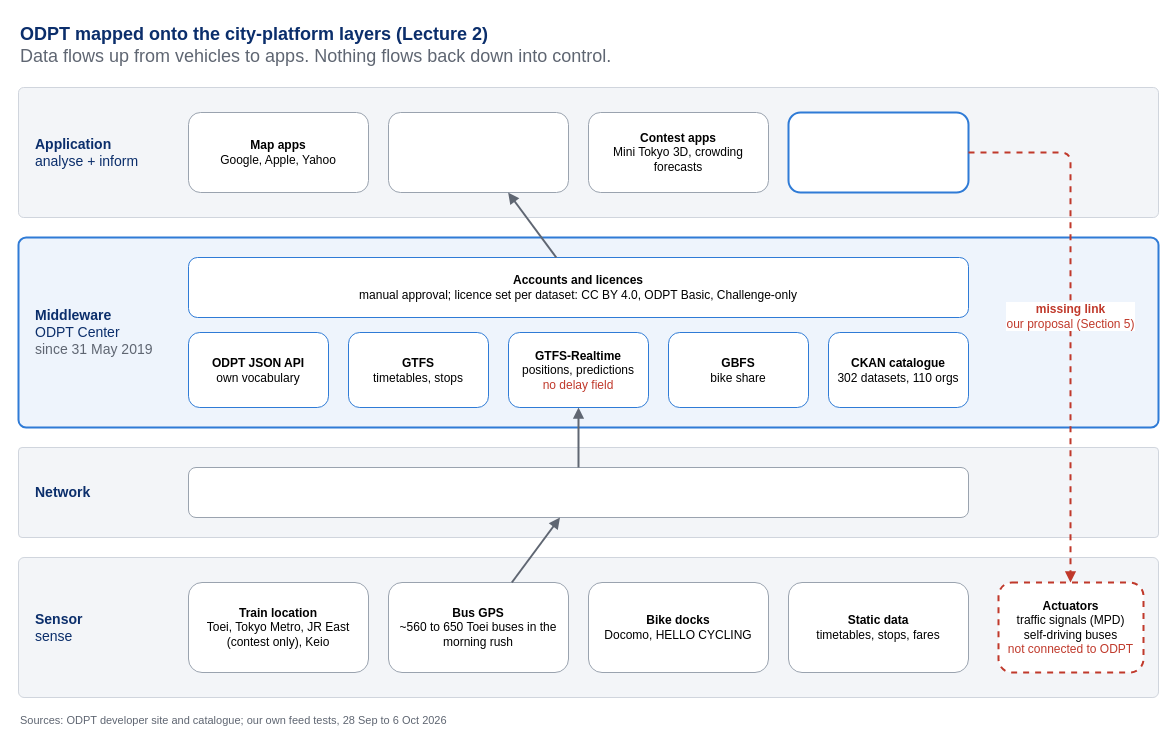
This 1176x748 diagram has some shape labels left out. The centre of each missing label's shape, as x and y in pixels:
Each operator's own back-office systems upload to ODPT over the internet: (578,492)
Our analysis bus delays + map (this report): (878,152)
Route planners Navitime, Jorudan: (478,152)
